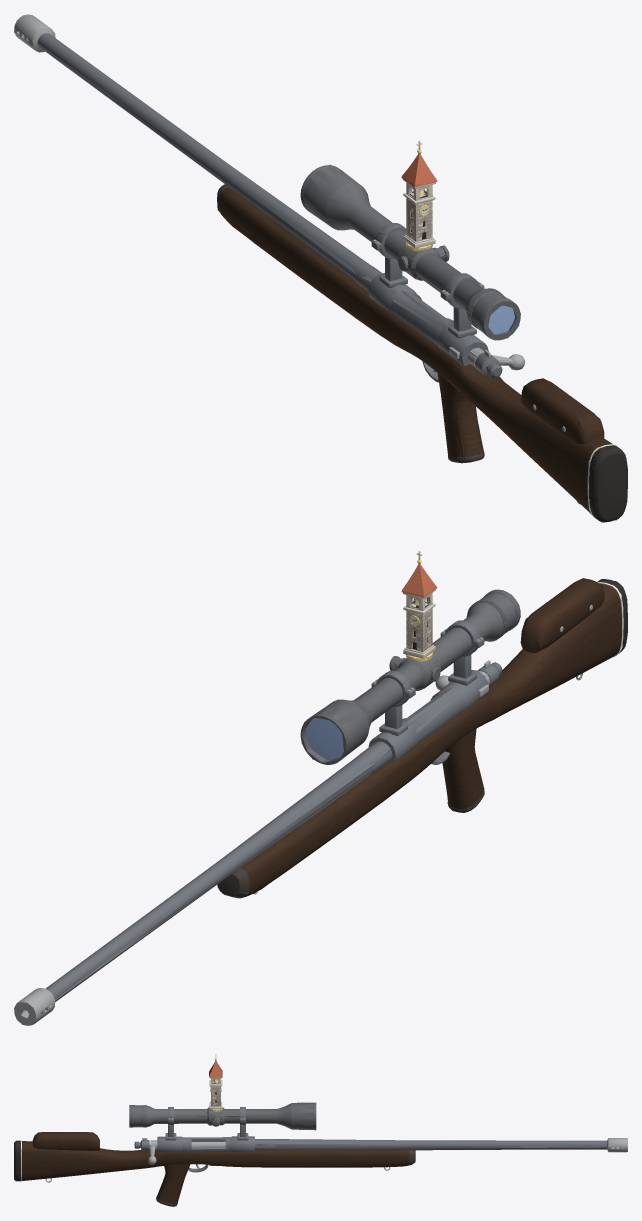
Rendered from cjampanili.glb.
3 views of the same model, one above another, from view 1: azimuth 30°, elevation 25°; view 2: azimuth 150°, elevation 25°; view 3: azimuth 270°, elevation 25° (orthographic). The views are drawn at different scales.
Parts seen in each view (by area): view 1: body, far, bolt; view 2: body, far; view 3: body, far, bolt.
Boxes of the visible parts, x1,y1,x2,y2 form: body: [14, 14, 627, 522]; far: [14, 14, 627, 522]; bolt: [467, 348, 524, 377]; body: [14, 551, 627, 1025]; far: [14, 560, 627, 1025]; body: [14, 1054, 627, 1206]; far: [14, 1061, 627, 1206]; bolt: [134, 1138, 225, 1164].
Bounding box in the file's own units: 0.0819 × 0.3407 × 1.26.
14 materials, 2 textured.
